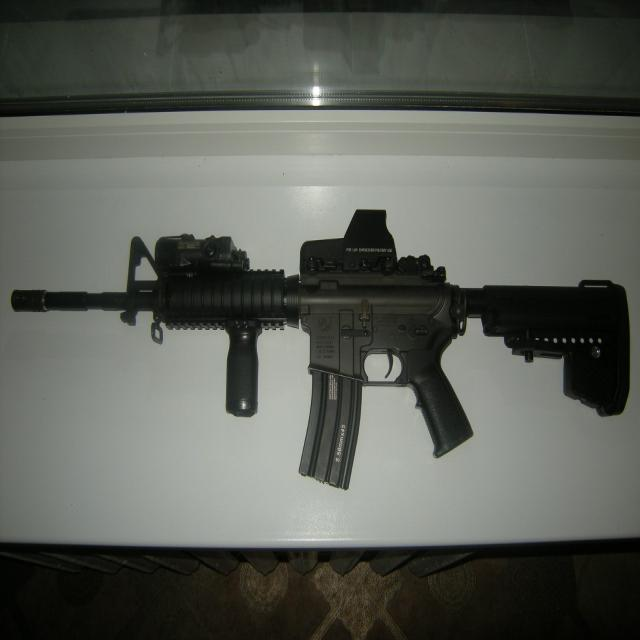firearm: (10, 207, 632, 495)
